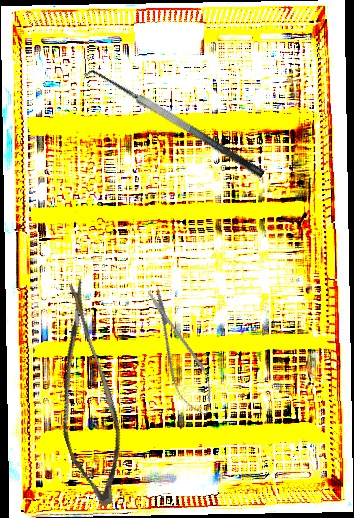Micro Scissor: (16, 276, 153, 511), (136, 282, 223, 423)
Spatula Surgical: (80, 58, 267, 194)
